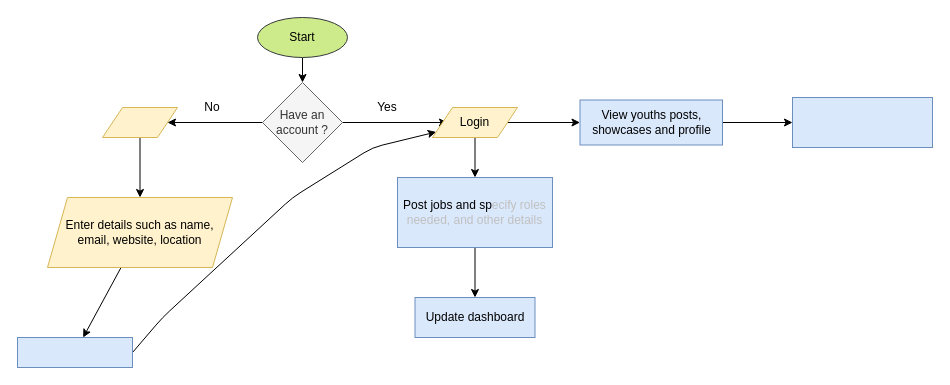
Some shapes in this 950 by 385 pixel diagram are drawn without their labels. Here are the shapes that lost their labels. From the top down, the centre of each, then its label:
At pixel 140 122: "Sign up".
At pixel 862 122: "Contact, reach out to youth for job".
At pixel 74 352: "Verify company".
